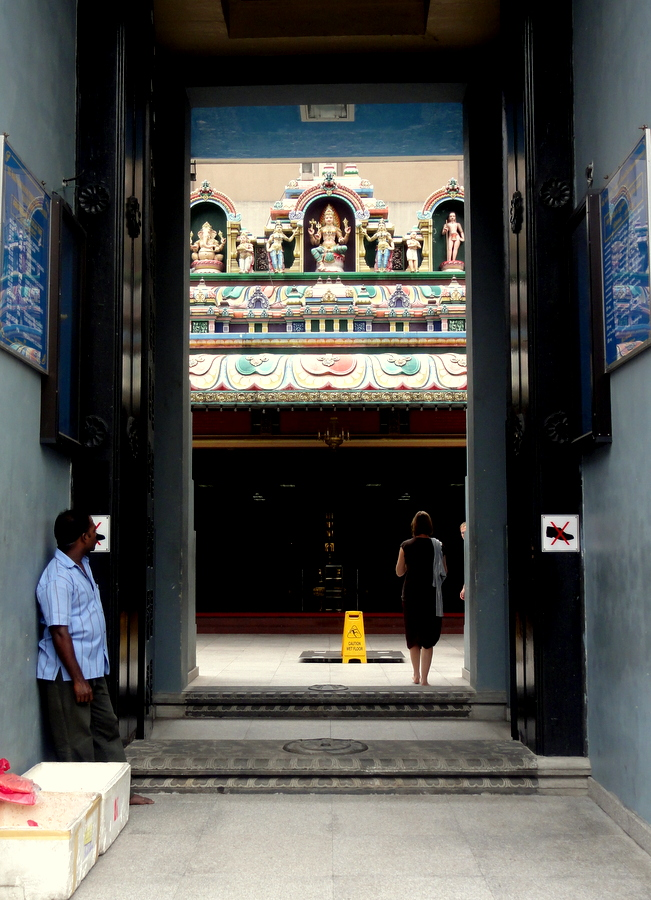Hindu Temple: (185, 176, 464, 421)
